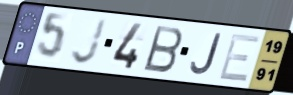4: (110, 21, 144, 71)
5: (35, 11, 70, 64)
B: (141, 24, 185, 75)
E: (216, 32, 263, 84)
J: (69, 16, 110, 66), (188, 32, 224, 77)
